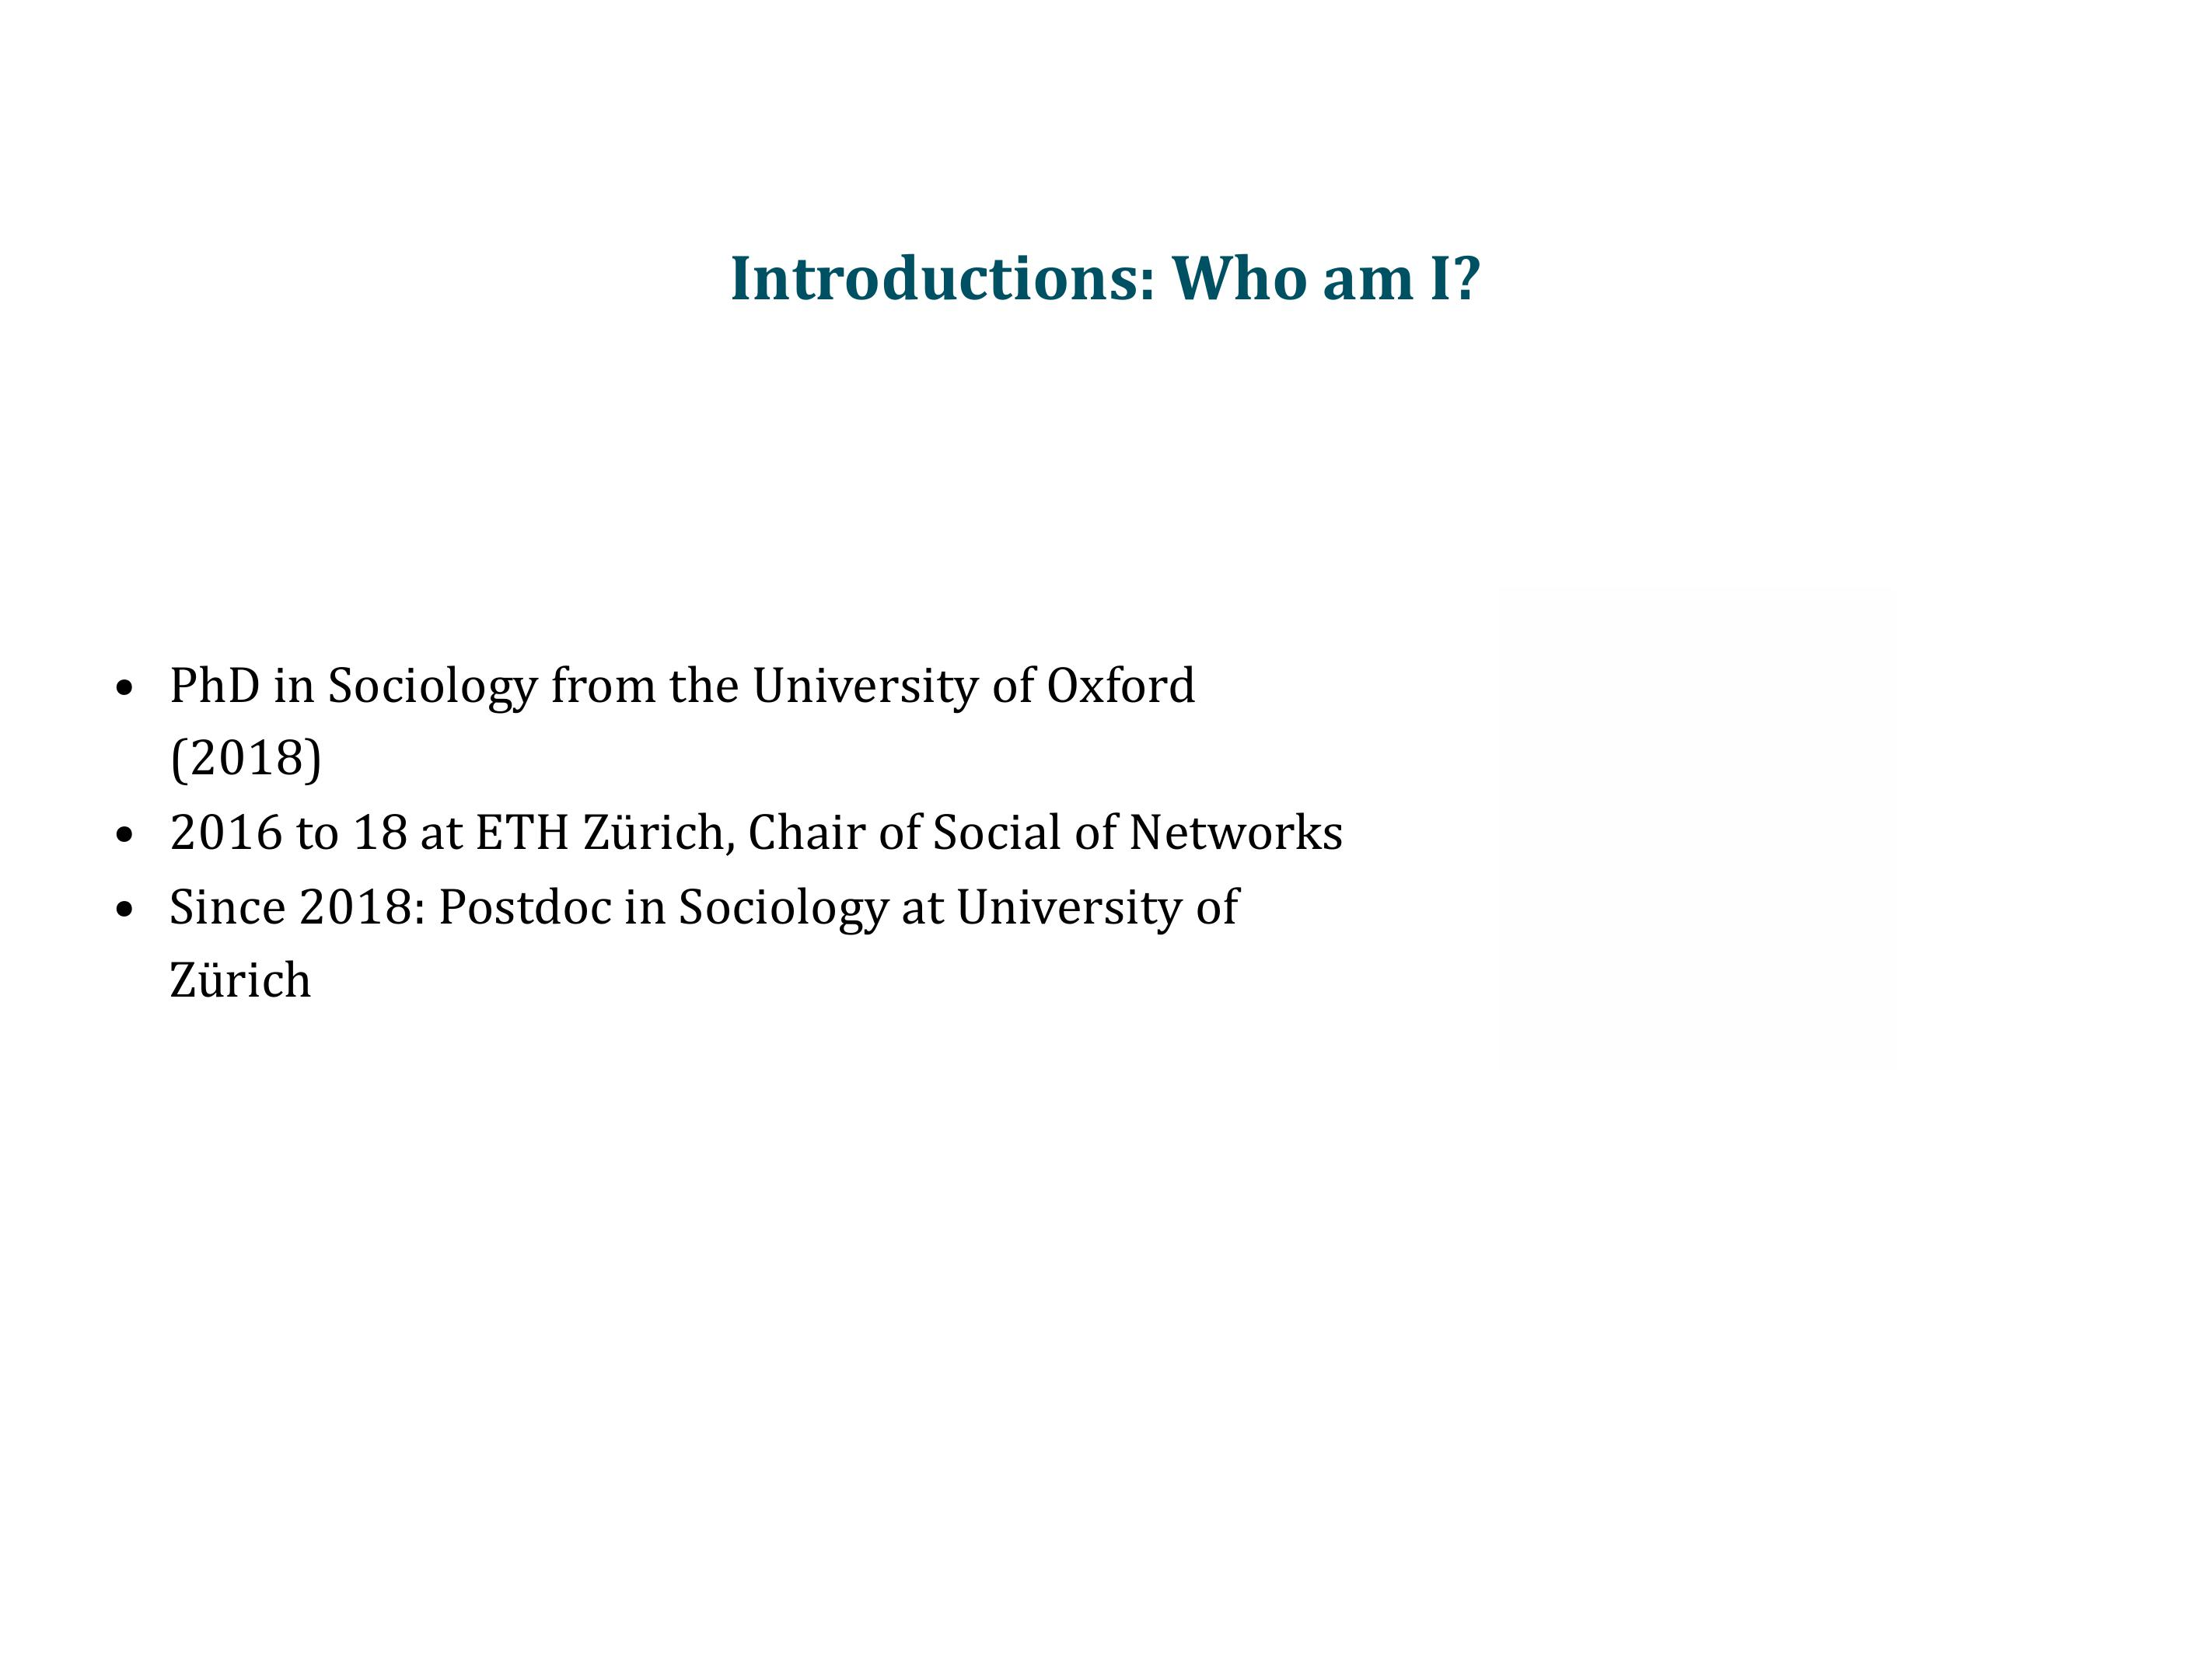Title: (709, 234, 1494, 336)
